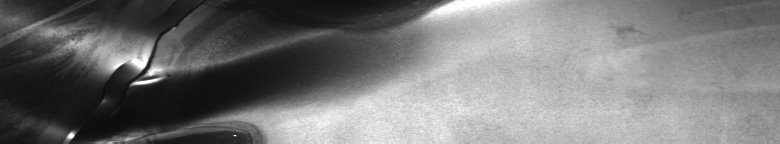ke: (125, 0, 447, 144)
